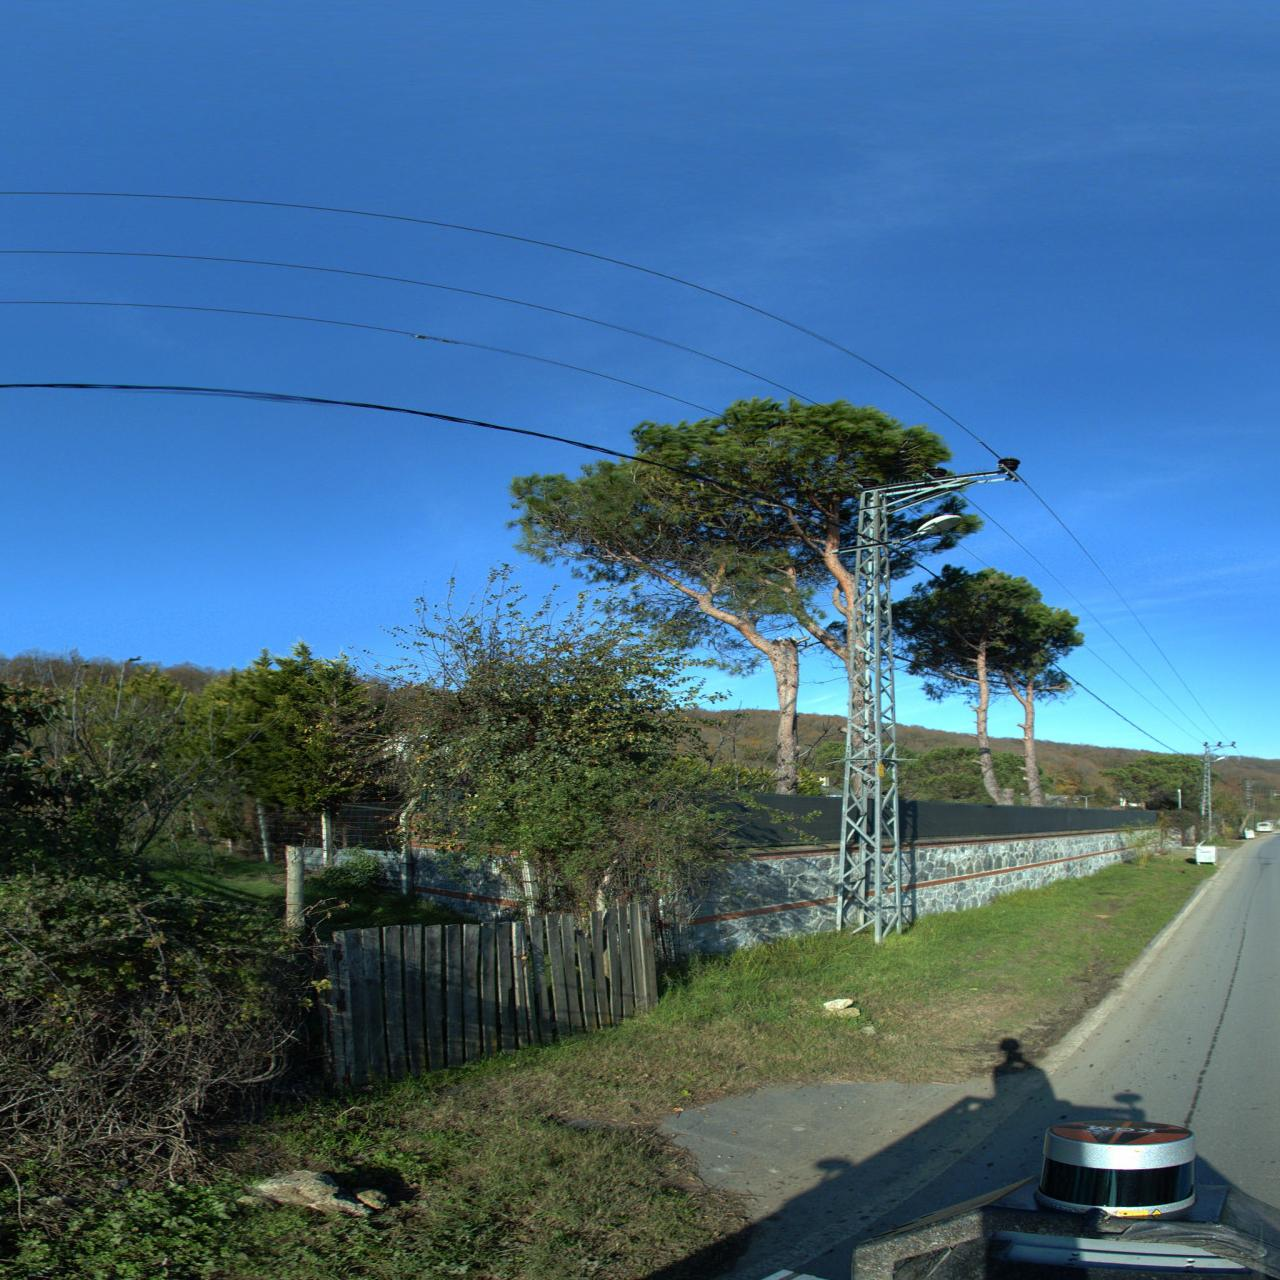Utility Pole Information Plate: (878, 770, 885, 777), (879, 763, 885, 769)
